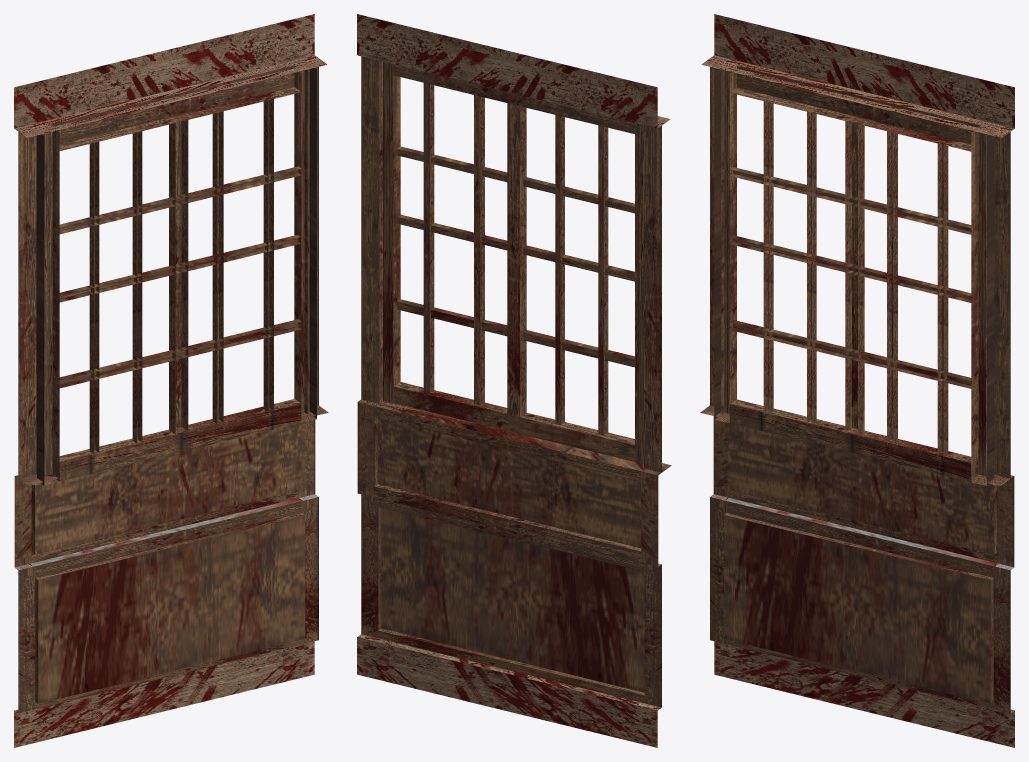
Rendered from window.fbx.
3 renders of one model, left to right at view 1: azimuth 30°, elevation 25°; view 2: azimuth 150°, elevation 25°; view 3: azimuth 330°, elevation 25°, orthographic.
Parts seen in each view (by area): view 1: window:Mesh; view 2: window:Mesh; view 3: window:Mesh.
Boxes of the visible parts, left/top/right/bottom form: window:Mesh: left=14, top=14, right=328, bottom=747; window:Mesh: left=357, top=14, right=671, bottom=747; window:Mesh: left=700, top=14, right=1014, bottom=747.
Size of the model in its own units: 1 by 2.1 by 0.0878.
3 materials, 3 textured.
